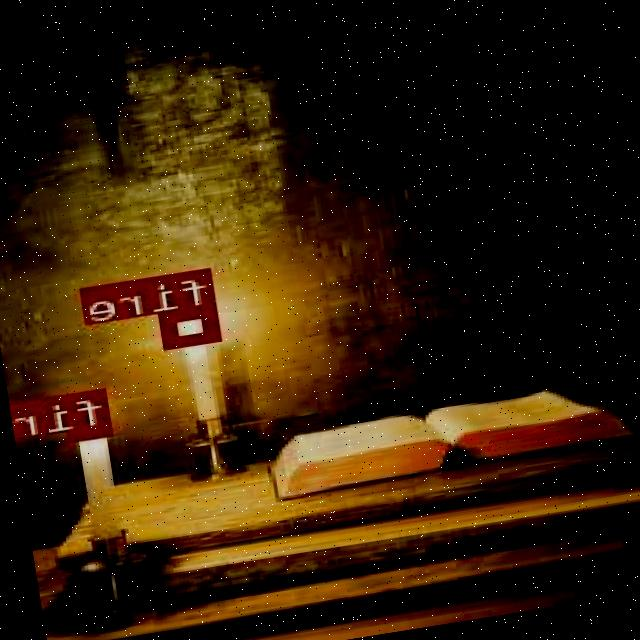fire: (164, 302, 224, 348), (65, 386, 116, 439)
